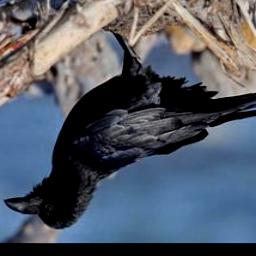Crow: (2, 23, 256, 231)
